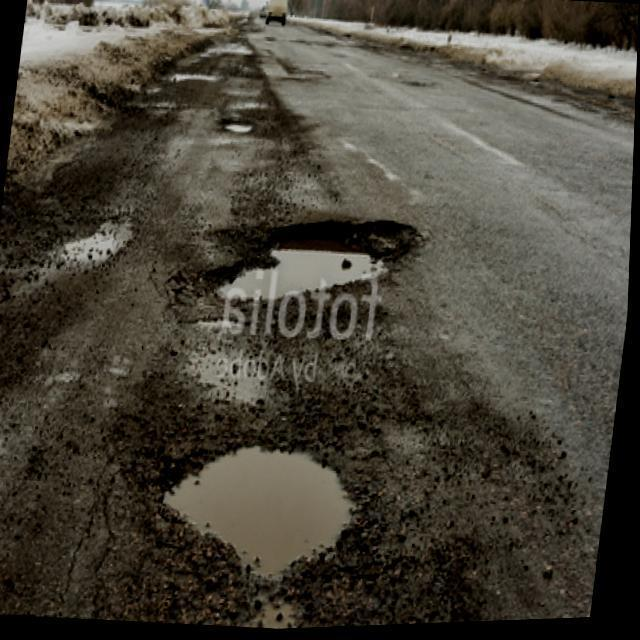Pothole: (168, 442, 352, 578), (179, 216, 416, 313), (219, 117, 254, 137)
